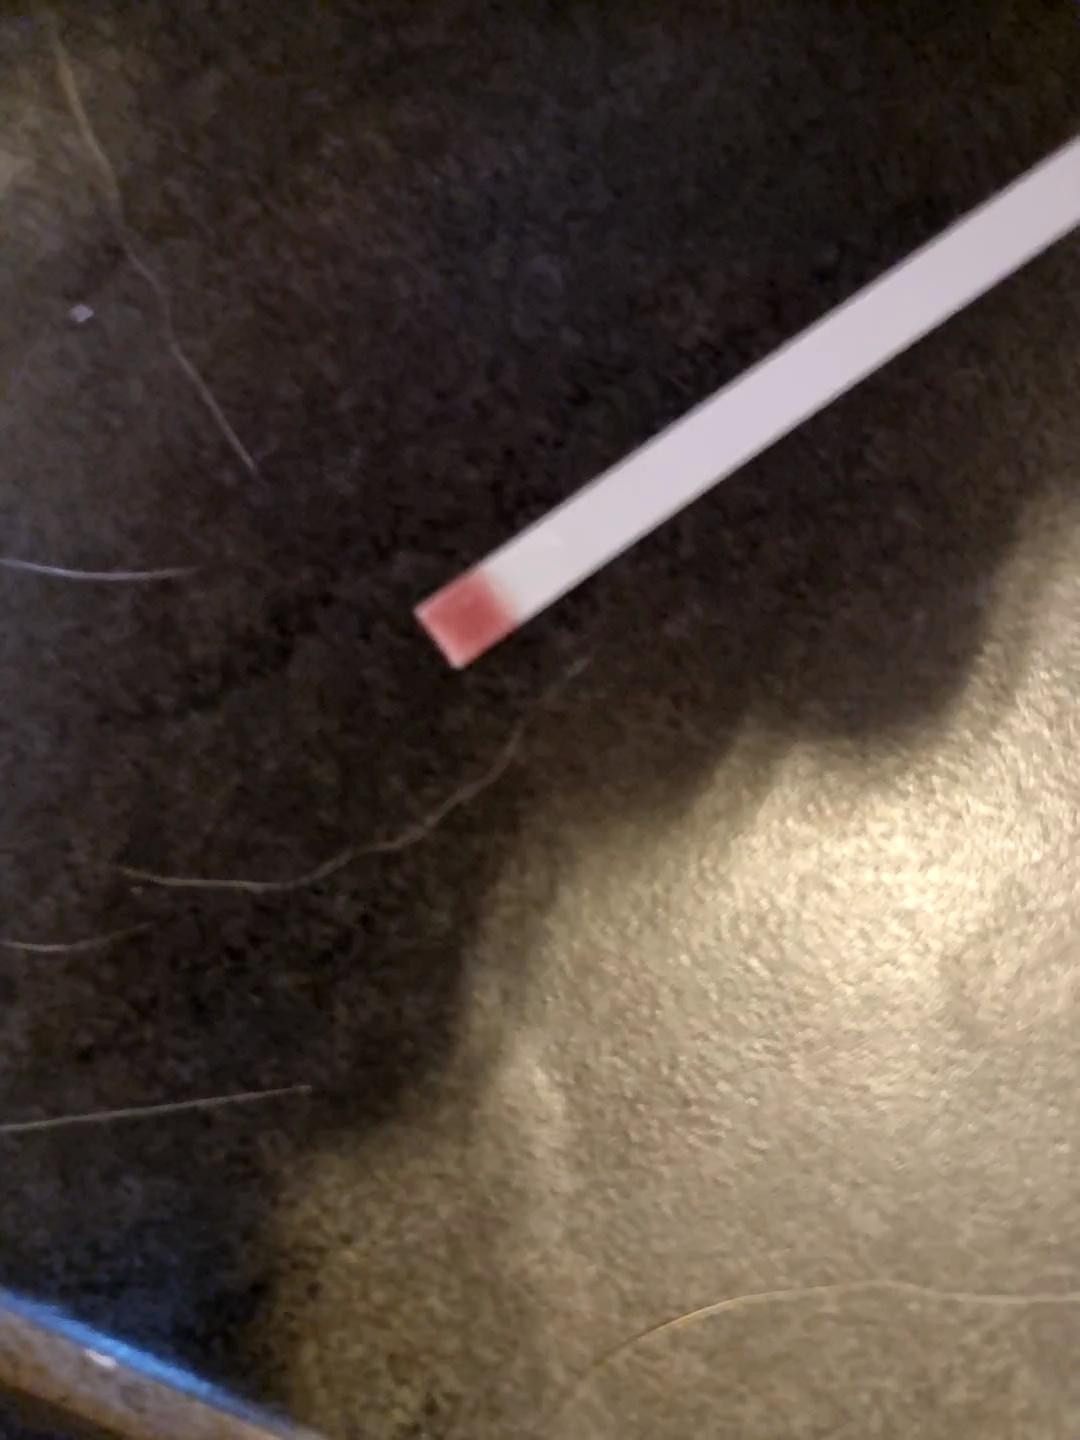keto-tip: (410, 566, 523, 675)
